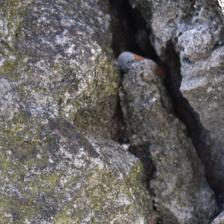Crack: (26, 33, 137, 142), (19, 76, 83, 196), (3, 65, 66, 133)
